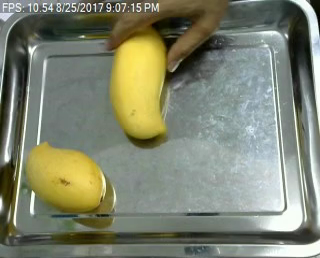Mango: (106, 23, 172, 143), (22, 139, 108, 213)
